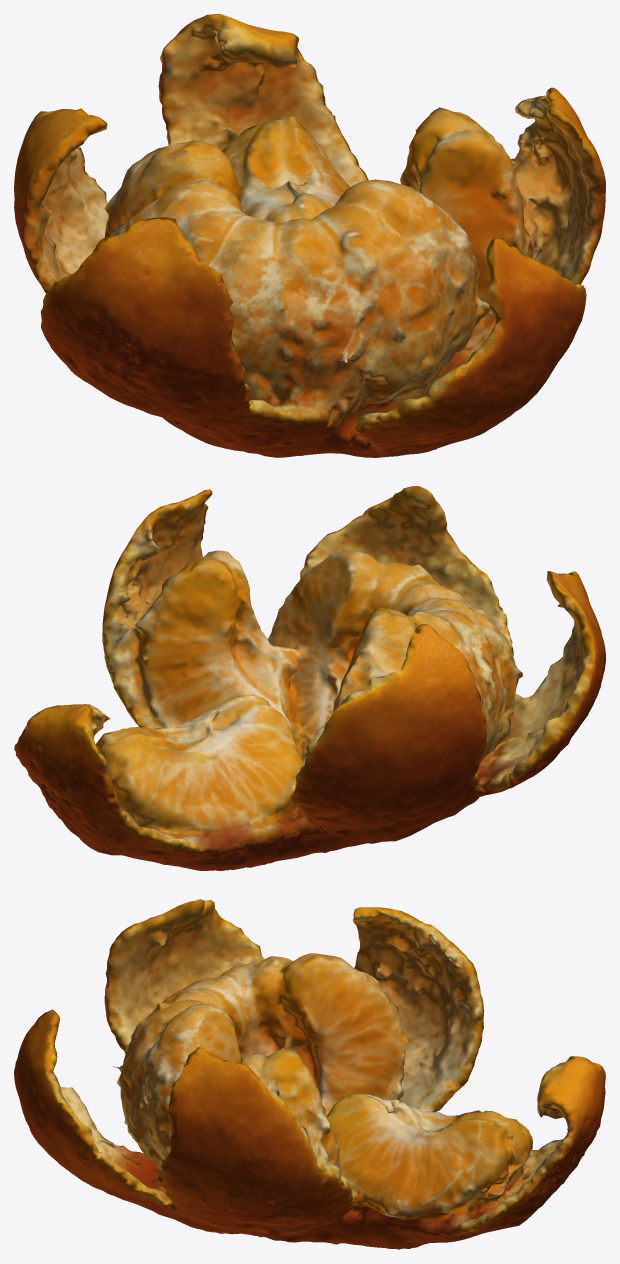
Rendered from mandarine.fbx.
The picture shows the model from 3 angles, top to bottom: view 1: azimuth 30°, elevation 25°; view 2: azimuth 150°, elevation 25°; view 3: azimuth 270°, elevation 25°; orthographic projection. The views are drawn at different scales.
Parts seen in each view (by area): view 1: 3; view 2: 3; view 3: 3.
Part boxes in pixels (<box>): 3: <box>14,14,605,457</box>; 3: <box>14,486,605,870</box>; 3: <box>14,899,605,1249</box>.
Bounding box in the file's own units: 150 × 86.89 × 181.
